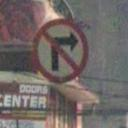NoVirarDireita: (30, 16, 91, 86)
